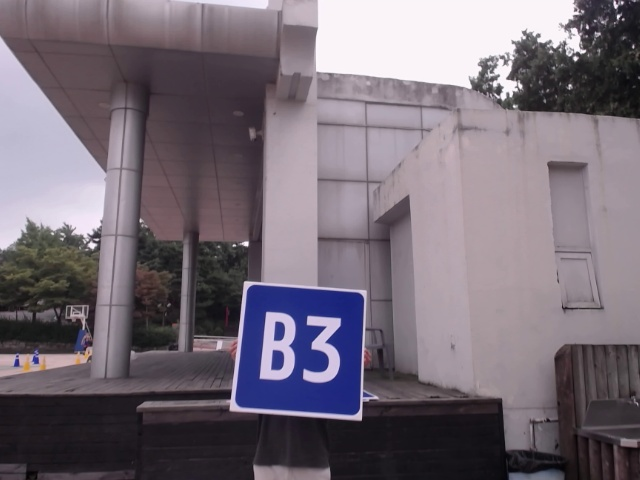delivery_b3: (234, 281, 368, 426)
